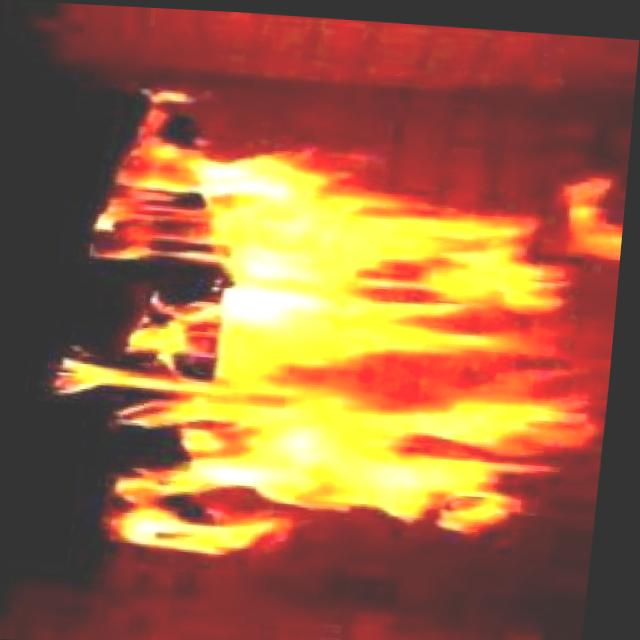helmet: (36, 67, 636, 579)
